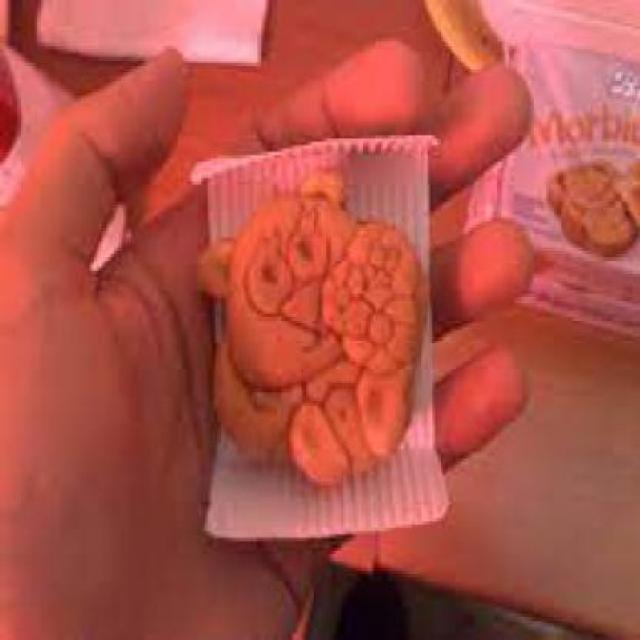Merendine packaged: (192, 168, 428, 502)
